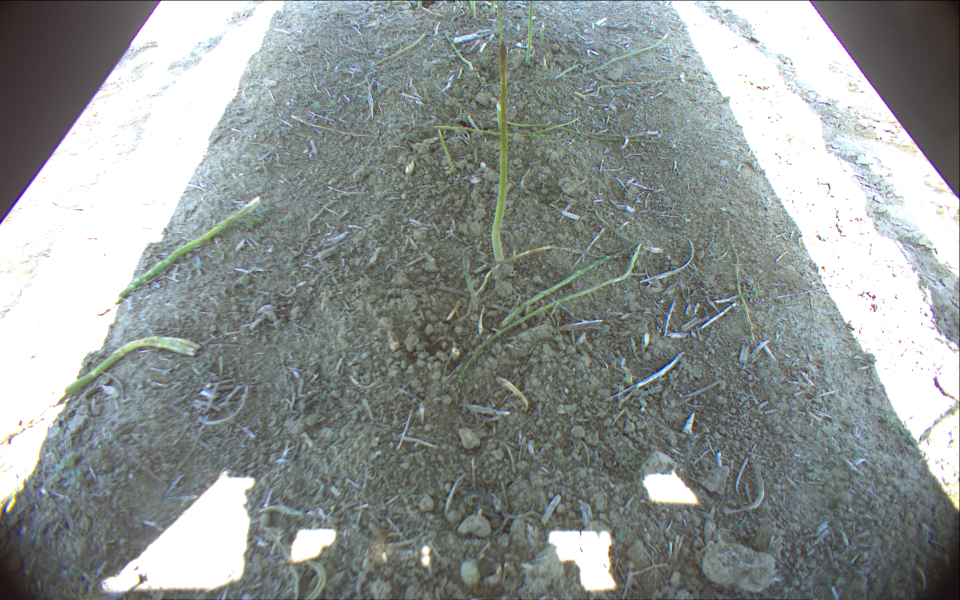aspa: (452, 241, 644, 403), (1, 336, 202, 446), (91, 197, 261, 316), (502, 243, 637, 326), (557, 32, 670, 77), (490, 119, 668, 144), (729, 232, 756, 348), (434, 117, 579, 130), (371, 32, 427, 65), (592, 75, 704, 90), (443, 30, 473, 74), (461, 253, 476, 308), (437, 130, 456, 172), (525, 1, 534, 63), (495, 101, 502, 127), (467, 1, 476, 18), (488, 1, 496, 14)
